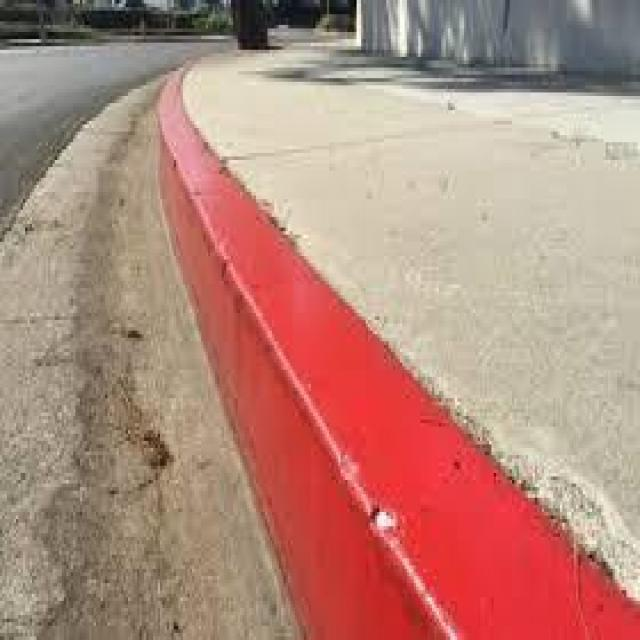bump: (166, 172, 473, 592), (136, 54, 235, 203)
